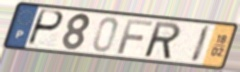0: (91, 16, 119, 54)
8: (60, 12, 91, 52)
F: (115, 18, 155, 55)
I: (189, 24, 213, 65)
P: (25, 8, 66, 48)
R: (144, 20, 182, 61)
